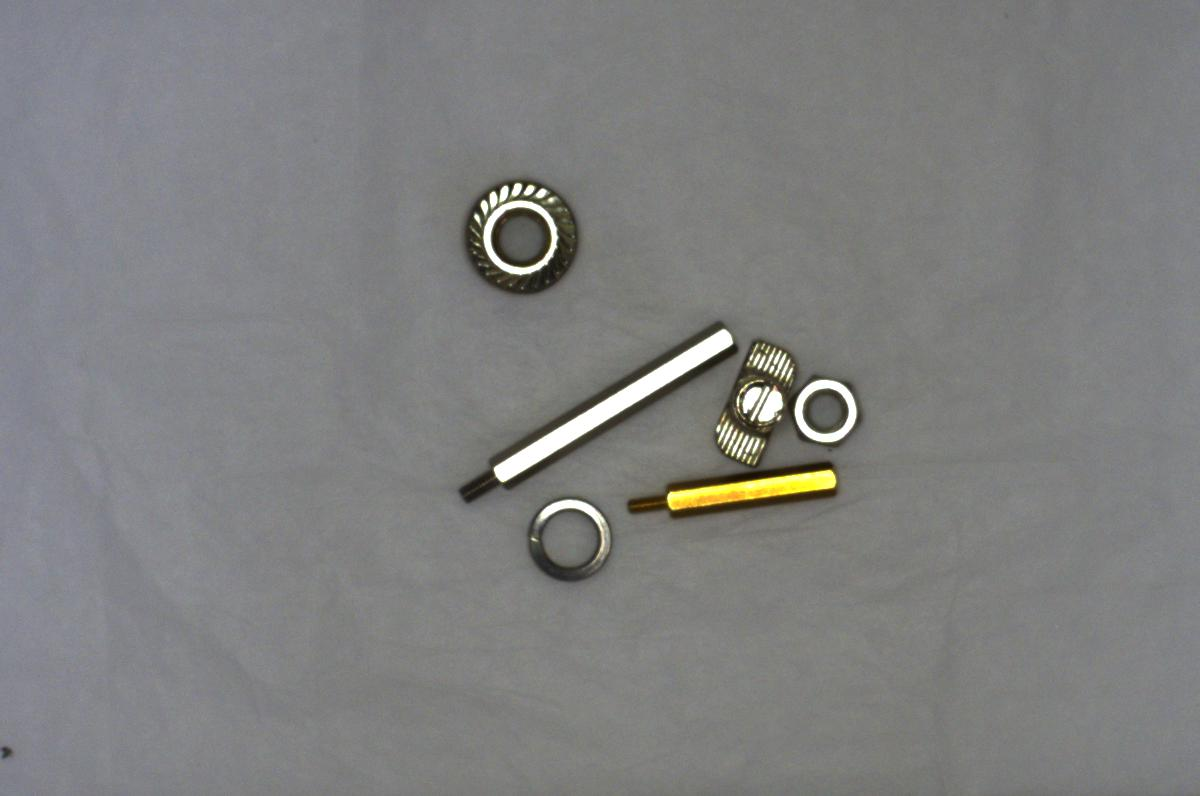Flange nut: (465, 177, 584, 303)
Hexagon nut: (785, 367, 864, 445)
Hexagon pillar: (621, 456, 846, 526)
Hexagonal steel column: (450, 312, 738, 506)
Spring washer: (525, 492, 623, 586)
T-shaped screw: (703, 333, 794, 471)
